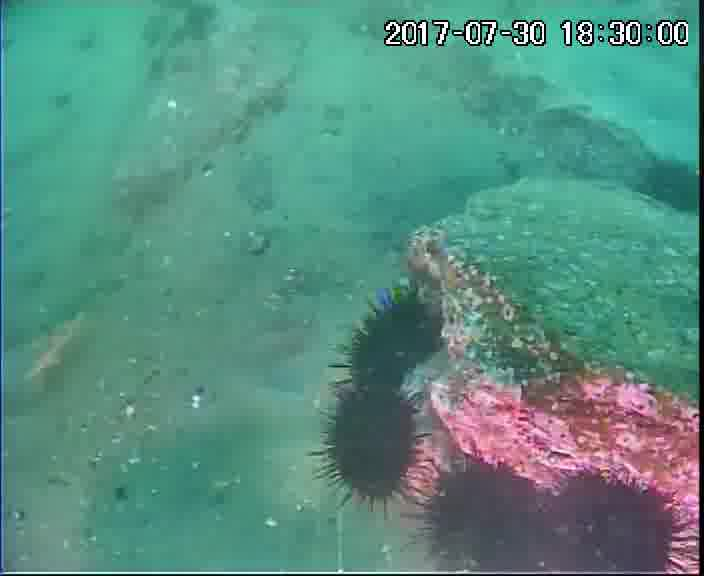echinus: (408, 454, 552, 576), (539, 467, 699, 576), (313, 383, 435, 511), (328, 286, 446, 398), (635, 152, 704, 221)
